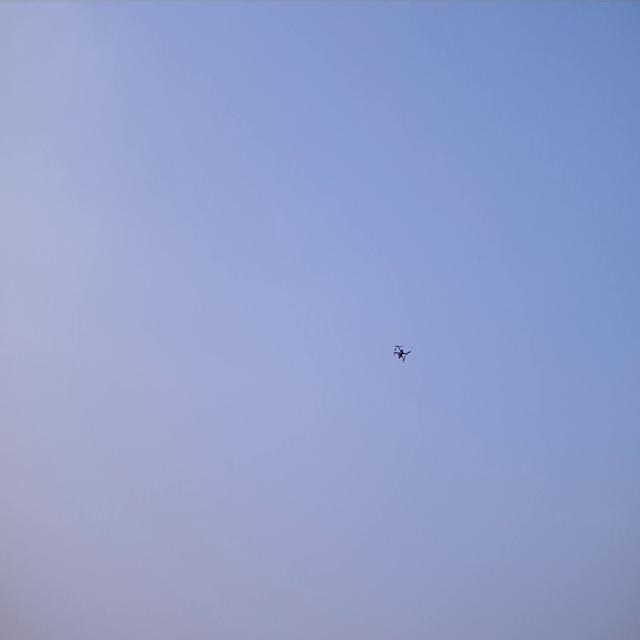UAV: (392, 343, 412, 364)
